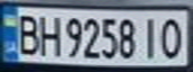2: (81, 13, 103, 60)
5: (100, 15, 121, 60)
8: (115, 15, 139, 60)
9: (60, 12, 84, 59)
B: (12, 10, 42, 56)
H: (36, 11, 63, 57)
I: (139, 15, 163, 60)
O: (157, 15, 187, 60)
